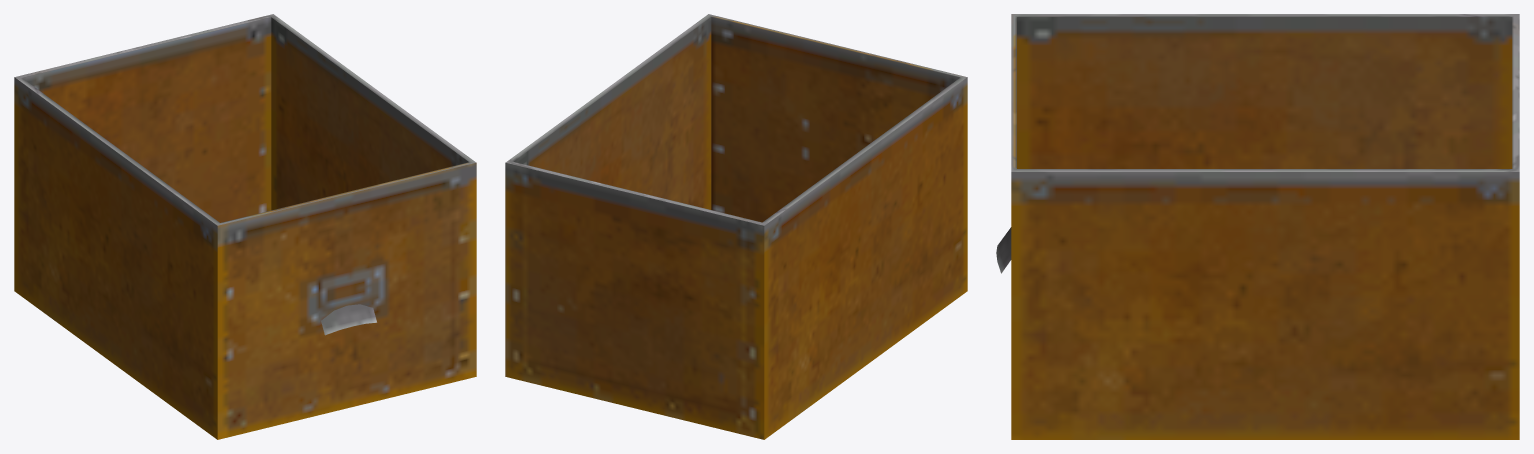
The model's file is sm36_053_cardboard02d.fbx.
3 views of the same model, side by side, from view 1: azimuth 30°, elevation 25°; view 2: azimuth 150°, elevation 25°; view 3: azimuth 270°, elevation 25° (orthographic). The views are drawn at different scales.
Parts seen in each view (by area): view 1: LOD_1_Group_0_Sub_1__sm36_053_Cardboard02D_A_Mat; view 2: LOD_1_Group_0_Sub_1__sm36_053_Cardboard02D_A_Mat; view 3: LOD_1_Group_0_Sub_1__sm36_053_Cardboard02D_A_Mat.
Part boxes in pixels (x1,y1,x2,y2): LOD_1_Group_0_Sub_1__sm36_053_Cardboard02D_A_Mat: (14,14,476,439); LOD_1_Group_0_Sub_1__sm36_053_Cardboard02D_A_Mat: (505,14,967,439); LOD_1_Group_0_Sub_1__sm36_053_Cardboard02D_A_Mat: (996,14,1519,439).
Bounding box in the file's own units: 0.2879 × 0.2276 × 0.4029.
